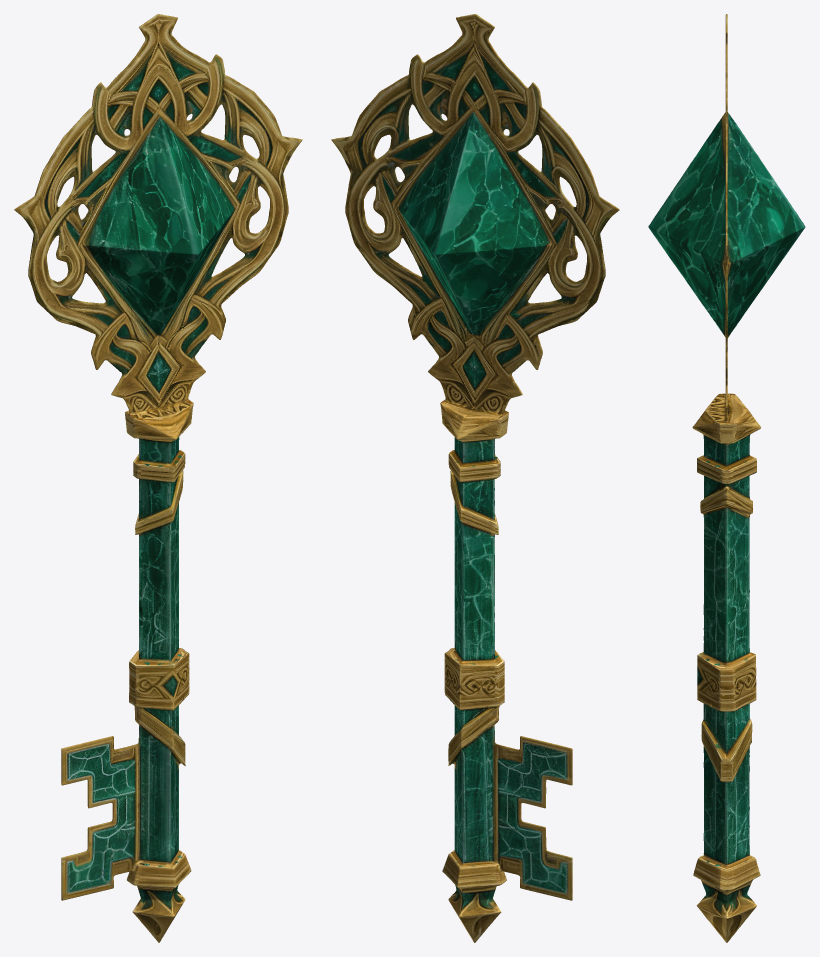
File: emerald_key_2k.glb
3 views of the same model, side by side, from view 1: azimuth 30°, elevation 25°; view 2: azimuth 150°, elevation 25°; view 3: azimuth 270°, elevation 25° (orthographic).
Parts seen in each view (by area): view 1: Mesh_0; view 2: Mesh_0; view 3: Mesh_0.
Boxes of the visible parts, x1,y1,x2,y2 form: Mesh_0: [14, 14, 302, 942]; Mesh_0: [331, 14, 619, 942]; Mesh_0: [648, 14, 805, 942].
Size of the model in its own units: 0.0487 by 0.15 by 0.023.
Materials: 1 (1 with a texture image).
